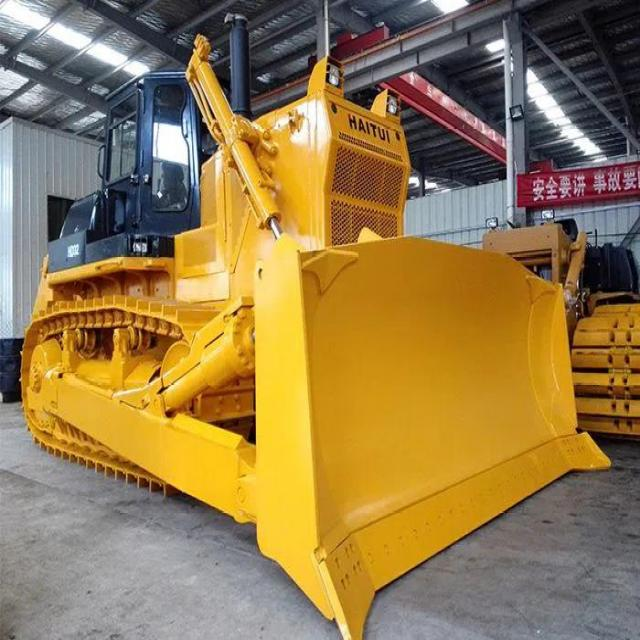Bulldozer: (17, 38, 639, 639)
